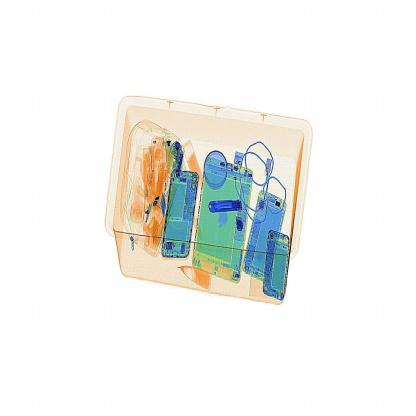knife: (201, 193, 253, 222)
